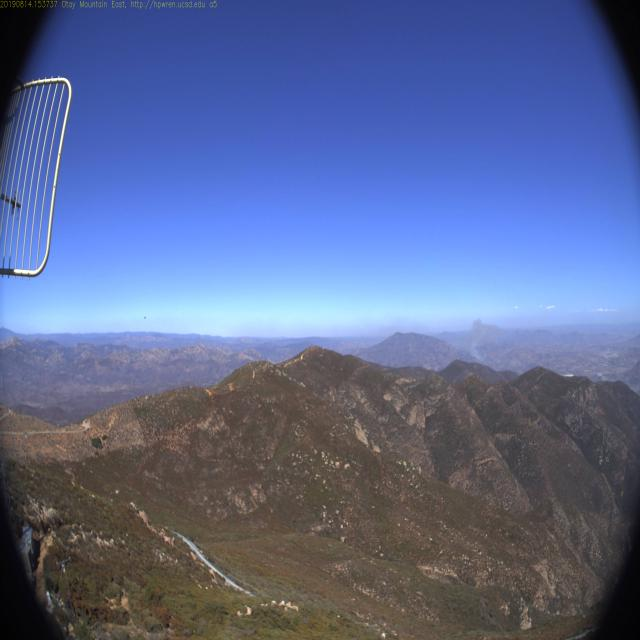smoke: (467, 332, 488, 367)
